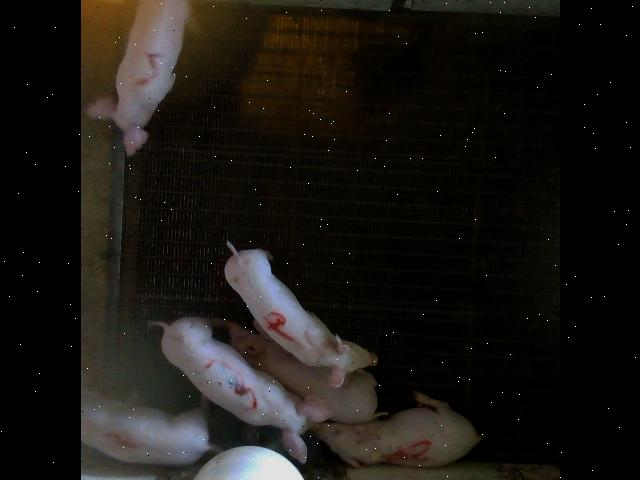pig-1: (81, 391, 209, 465)
pig-2: (85, 0, 189, 155)
pig-3: (156, 318, 330, 462)
pig-4: (224, 241, 376, 388)
pig-5: (312, 391, 482, 468)
